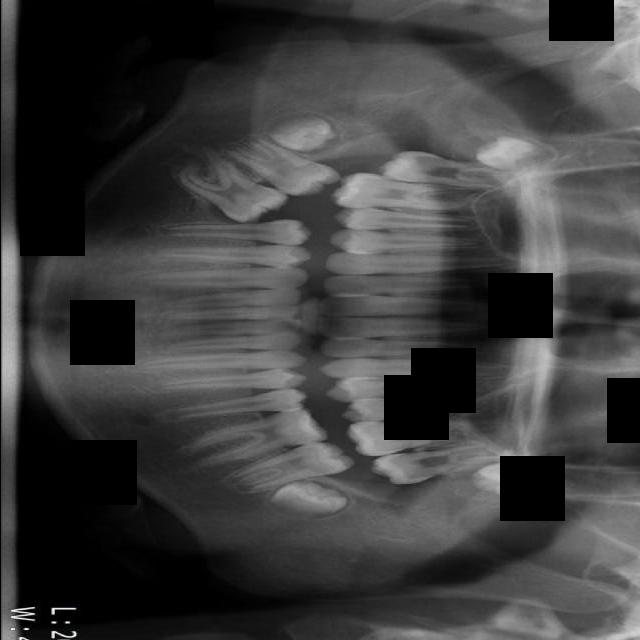3M ESPE Implant: (474, 130, 530, 176), (471, 134, 529, 169)
73: (65, 592, 84, 602)
BioLife Implant: (476, 461, 535, 494)
Biomet 3i Implant: (270, 476, 345, 519)
Blue Sky Bio Implant: (226, 434, 354, 497)
Caries: (382, 149, 516, 192)
Implant: (225, 128, 343, 211)
Keystone Dental Implant: (268, 114, 338, 156)
